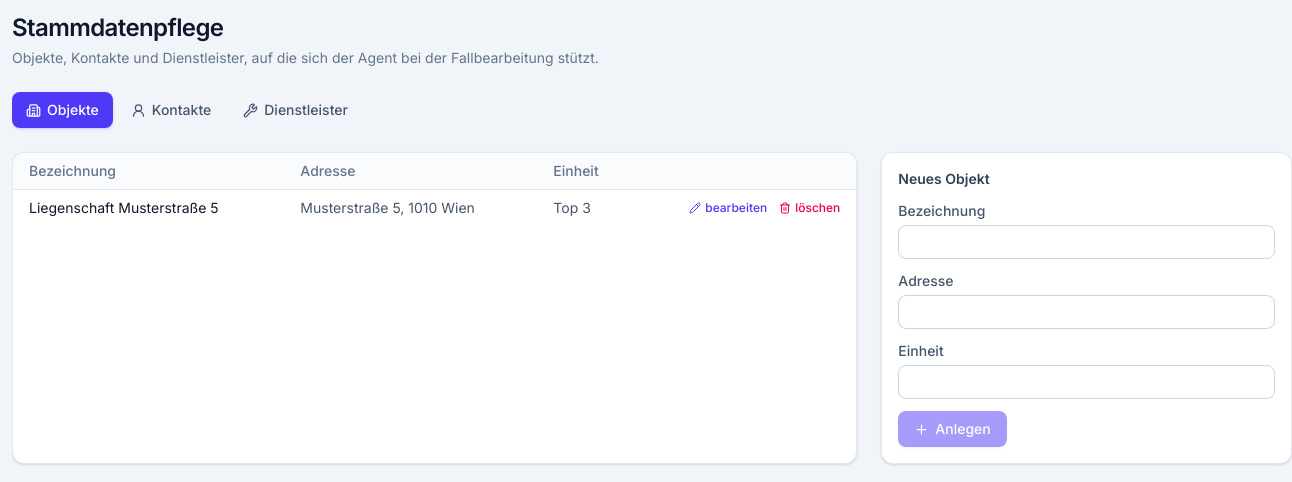
Scenario: Stammdaten › Objekt: zeigt eine Fehlermeldung, wenn das Speichern fehlschlägt
Expected: the text "Liegenschaft Musterstraße 5" is shown, left=13, top=190, right=284, bottom=226
What coordinates should you click on to do the following:
click the button "bearbeiten"
I would click on:
 (728, 208)
Its box is left=689, top=200, right=767, bottom=216.
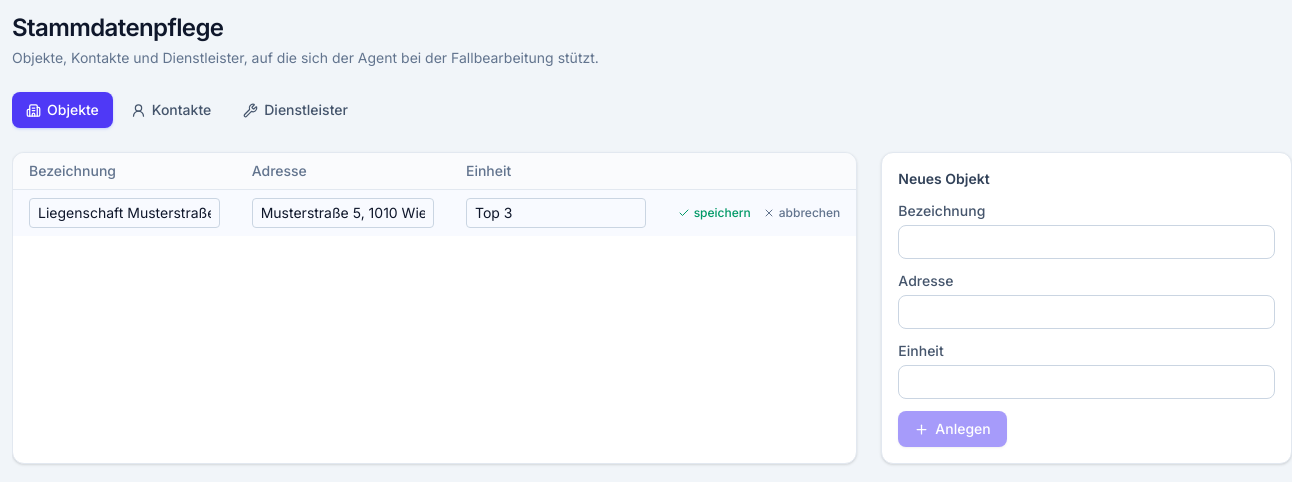
What coordinates should you click on to do the following:
click the button "speichern"
I would click on:
 (714, 213)
Its box is left=678, top=205, right=751, bottom=221.
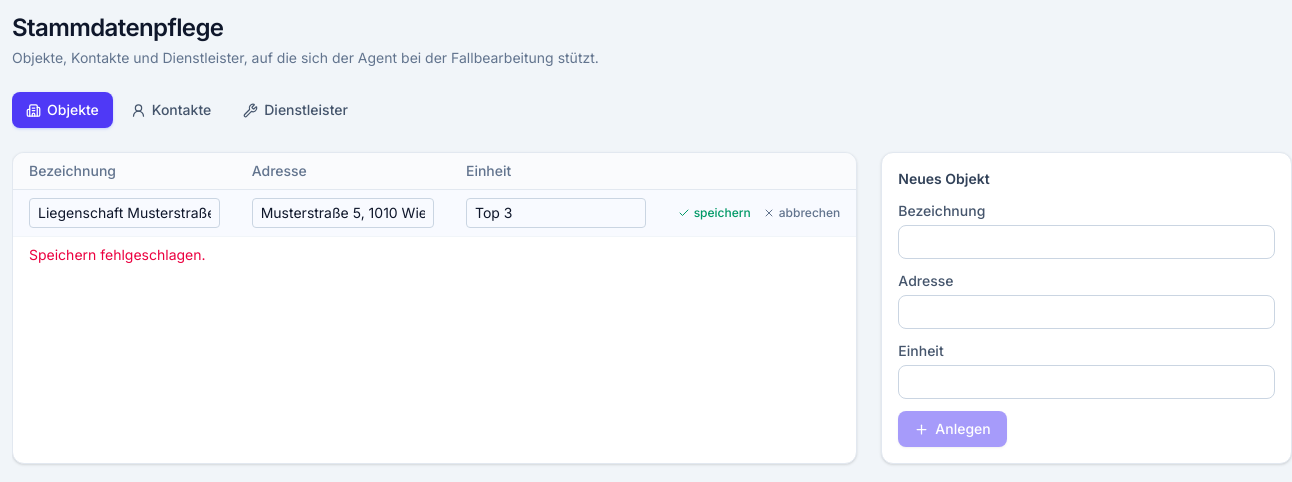
Result: the message reads "Speichern fehlgeschlagen." at left=29, top=246, right=206, bottom=263
